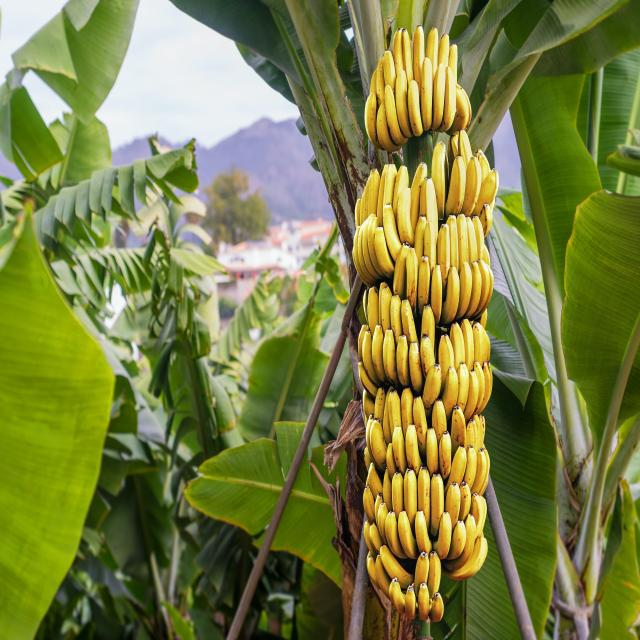Banana: (321, 7, 515, 640), (470, 255, 494, 339), (389, 290, 417, 361), (379, 200, 402, 274), (351, 219, 374, 289), (478, 165, 497, 247), (430, 141, 448, 223), (395, 71, 414, 144), (416, 304, 439, 362), (370, 223, 394, 277), (418, 56, 435, 130), (444, 266, 462, 334), (410, 163, 427, 229), (398, 188, 416, 250), (406, 81, 425, 138), (366, 210, 381, 282), (383, 160, 398, 230), (445, 64, 458, 144), (456, 80, 472, 143), (367, 166, 382, 232), (430, 263, 445, 329), (457, 260, 472, 326), (405, 244, 418, 318), (466, 158, 481, 222), (418, 255, 432, 322), (472, 146, 489, 199), (422, 214, 436, 278), (446, 212, 459, 280), (412, 25, 426, 88), (402, 29, 416, 91), (451, 158, 465, 220), (383, 49, 399, 103), (408, 338, 424, 392), (421, 179, 441, 222), (378, 278, 392, 339), (456, 213, 469, 278), (454, 132, 474, 174), (379, 105, 395, 156), (367, 285, 382, 339), (439, 334, 454, 387), (396, 164, 408, 230), (384, 87, 398, 143), (414, 214, 426, 279), (366, 92, 378, 153), (435, 64, 445, 134), (439, 223, 450, 285), (440, 30, 451, 89), (448, 44, 460, 98), (467, 216, 478, 274), (376, 57, 387, 108), (393, 29, 403, 84), (428, 27, 438, 82)
